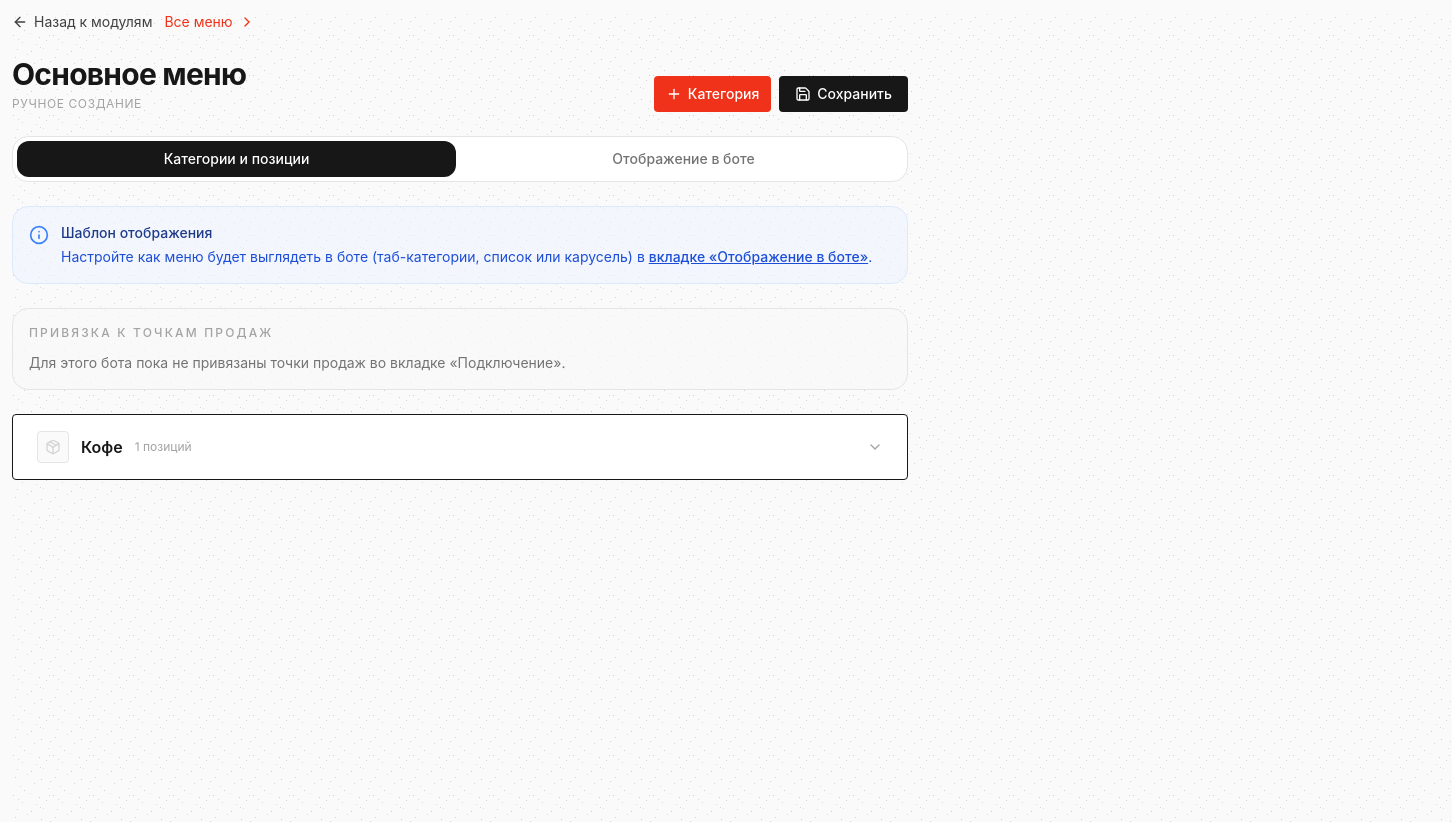
Test: MenuDetailPage › renders bindings, categories, and full item data
Check: the text "Привязка к точкам продаж" is shown, box [29,325,274,340]
# Categories are collapsed by default — expand to see items
Click the heading "Кофе".
click(102, 447)  # box [81,435,123,459]
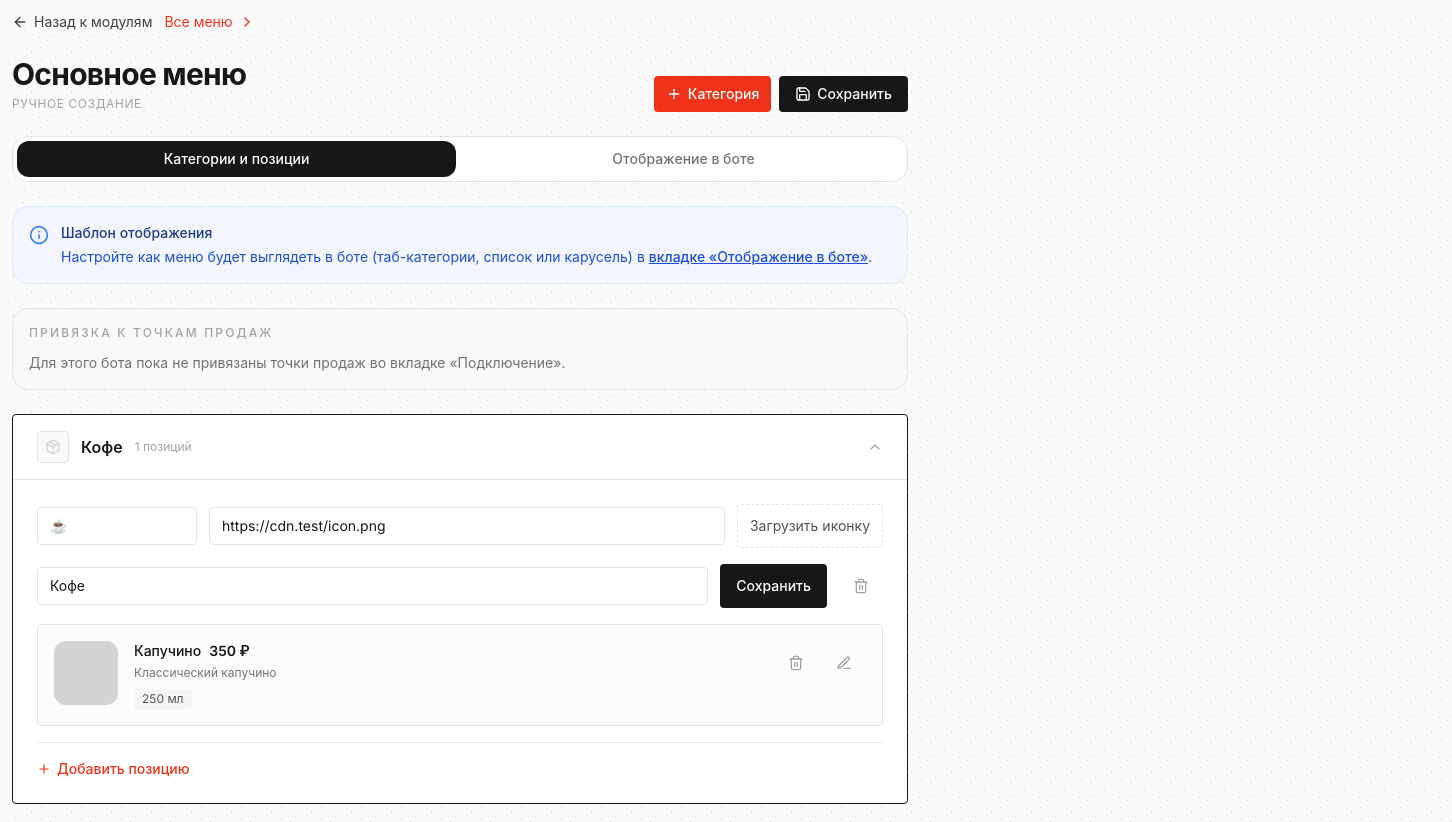
Check: the text "250 мл" is shown, box [134,689,192,709]
